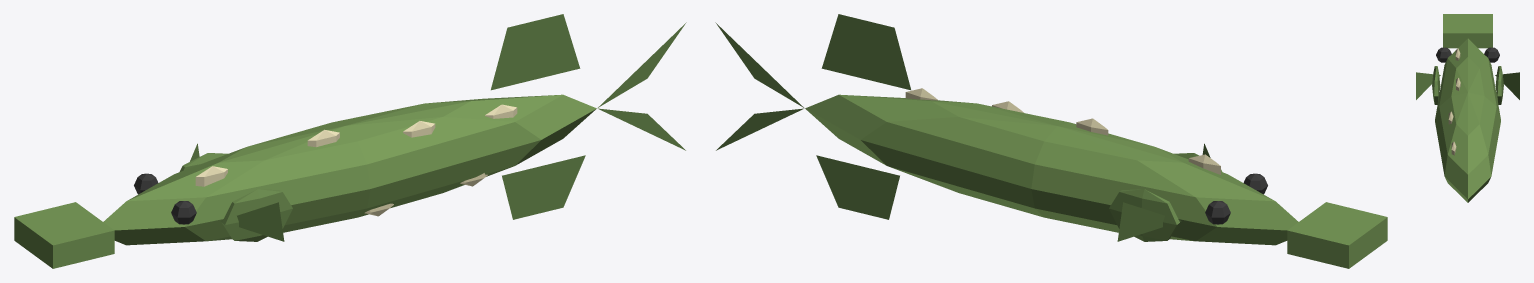
File: fish-northern-pike.glb
The picture shows the model from 3 angles, left to right: view 1: azimuth 30°, elevation 25°; view 2: azimuth 150°, elevation 25°; view 3: azimuth 270°, elevation 25°; orthographic projection. The views are drawn at different scales.
Visible parts, largest first — view 1: NorthernPike; view 2: NorthernPike; view 3: NorthernPike.
Part boxes in pixels (left/top/right/bottom): NorthernPike: left=14, top=14, right=686, bottom=268; NorthernPike: left=715, top=14, right=1387, bottom=268; NorthernPike: left=1416, top=14, right=1519, bottom=202.
Bounding box in the file's own units: 2.33 × 0.66 × 0.5012.
